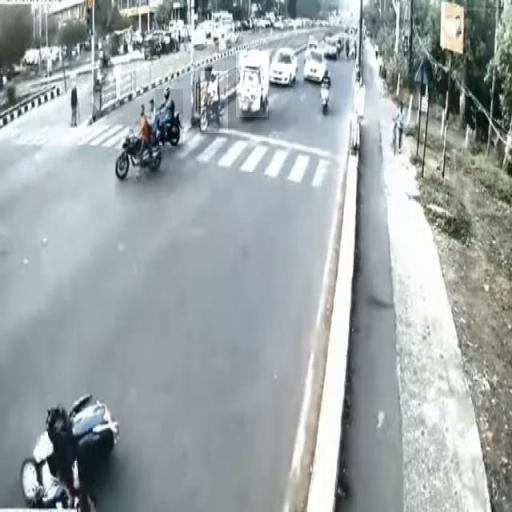小汽车: (236, 50, 268, 117), (271, 48, 297, 86), (305, 51, 327, 82)
自行车: (115, 107, 161, 173), (201, 71, 228, 133), (156, 89, 184, 146)
